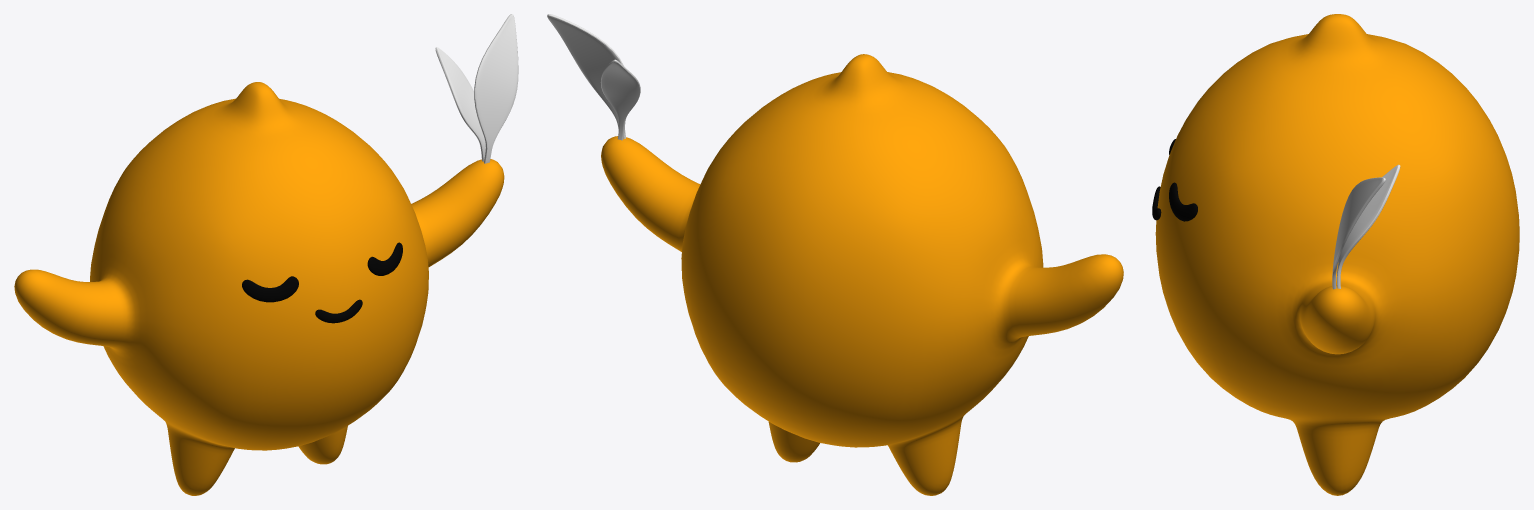
File: Personaggio.fbx
3 views of the same model, side by side, from view 1: azimuth 30°, elevation 25°; view 2: azimuth 150°, elevation 25°; view 3: azimuth 270°, elevation 25° (orthographic). The views are drawn at different scales.
Visible parts, largest first — view 1: Cube, Foglie, Occhi; view 2: Cube, Foglie; view 3: Cube, Foglie, Occhi.
Part boxes in pixels (x1=…): Cube: x1=14, y1=82, x2=504, y2=495; Foglie: x1=435, y1=14, x2=518, y2=163; Occhi: x1=242, y1=242, x2=402, y2=302; Cube: x1=601, y1=54, x2=1123, y2=495; Foglie: x1=547, y1=14, x2=640, y2=140; Cube: x1=1155, y1=14, x2=1519, y2=495; Foglie: x1=1332, y1=164, x2=1400, y2=289; Occhi: x1=1169, y1=139, x2=1197, y2=221.
Size of the model in its own units: 94.64 by 69 by 51.89.
3 materials, 1 textured.
